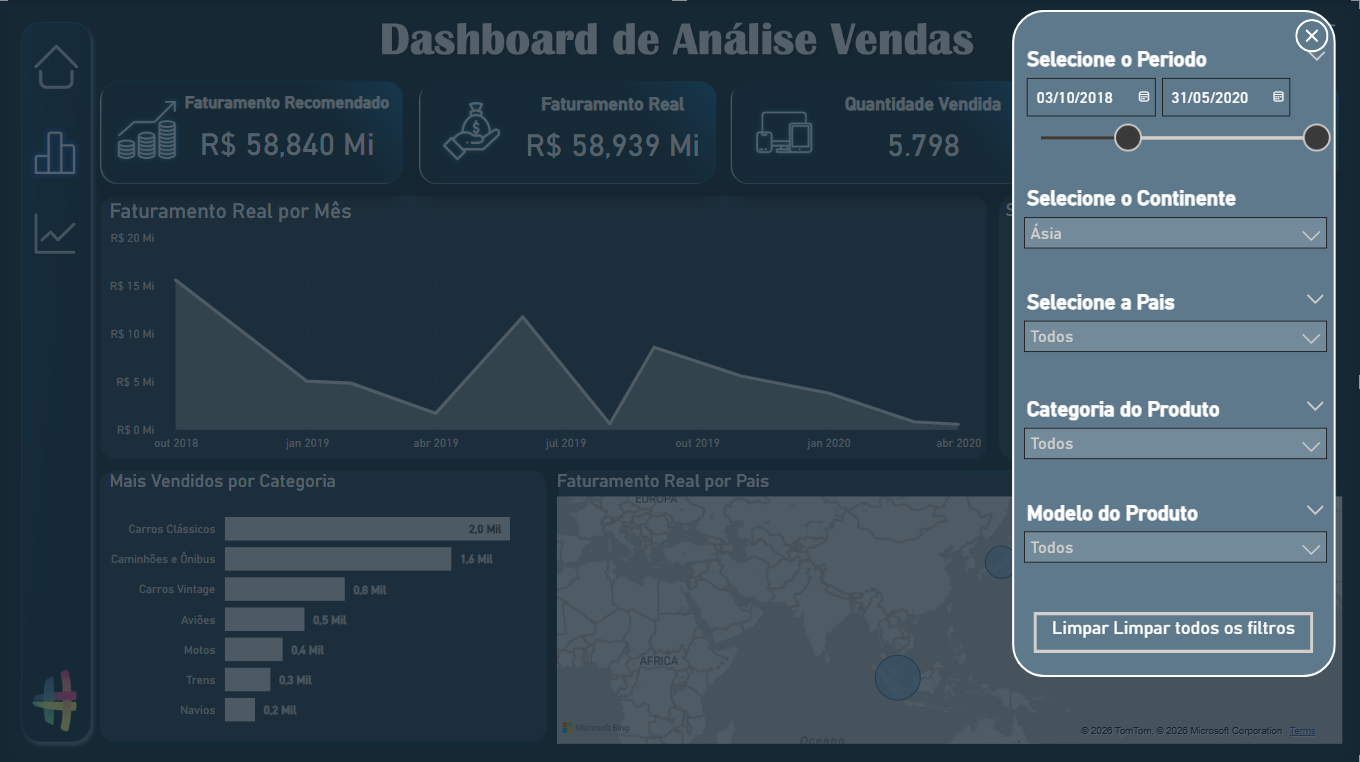

The page's visual inventory and layout, read from the dashboard file:
{"tool":"powerbi","page":{"name":"Inicial","canvas":[1280,720],"ordinal":1},"visuals":[{"type":"card","title":"Faturamento Recomendado","fields":{"Values":["Medidas.Faturamento Total Previsto"]},"box":[168.9,89.5,207,73.8],"z":0},{"type":"card","title":"Faturamento Real","fields":{"Values":["Medidas.Faturamento Total Real"]},"box":[474.6,89.5,203.9,73.6],"z":1000},{"type":"card","title":"Quantidade Vendida","fields":{"Values":["Medidas.Qtde Vendida"]},"box":[770.8,89.5,194.7,73.8],"z":2000},{"type":"card","title":"Desvio de Faturamento","fields":{"Values":["Medidas.Desvio de Preço"]},"box":[1056.3,89.2,199.7,73.6],"z":3000},{"type":"stackedAreaChart","title":"Faturamento Real por Mês","fields":{"Category":["dCalendario.Inicio do Mês"],"Y":["Medidas.Faturamento Total Real"]},"box":[100.4,188.5,827.7,243.2],"z":4000},{"type":"image","title":"Botão de Filtro","box":[1219.2,21.2,39,31.2],"z":5000},{"type":"clusteredBarChart","title":"Mais Vendidos por Categoria","fields":{"Y":["Medidas.Qtde Vendida"],"Category":["dProduto.Categoria"]},"box":[100.4,442.8,413.8,252.1],"z":6000},{"type":"map","title":"Faturamento Real por Pais","fields":{"Category":["dLocalidade.Pais"],"Size":["Medidas.Faturamento Total Real"]},"box":[519.8,442.8,746.2,261],"z":7000},{"type":"actionButton","title":"Botão Capa","box":[22.3,37.2,68.3,60.8],"z":8000},{"type":"donutChart","title":"Status dos Produtos","fields":{"Y":["Medidas.Qtde Vendida"],"Series":["fVendas.Porte da Venda1"]},"box":[940.3,188.5,317.9,243.2],"z":9000},{"type":"actionButton","box":[22.6,191.3,67.8,57.1],"z":11000},{"type":"actionButton","title":"Botão Capa","box":[21.1,187.5,68.3,60.8],"z":12000}]}

Visuals, with their boxes on the page's 1280x720 design canvas (x1, y1, x2, y2). These are canvas units, not pixel positions in the 1360x762 screenshot, which may show the page scaled, cropped or inside an application window:
"Faturamento Recomendado" card: <region>169, 90, 376, 163</region>
"Faturamento Real" card: <region>475, 90, 678, 163</region>
"Quantidade Vendida" card: <region>771, 90, 966, 163</region>
"Desvio de Faturamento" card: <region>1056, 89, 1256, 163</region>
"Faturamento Real por Mês" stackedAreaChart: <region>100, 188, 928, 432</region>
"Botão de Filtro" image: <region>1219, 21, 1258, 52</region>
"Mais Vendidos por Categoria" clusteredBarChart: <region>100, 443, 514, 695</region>
"Faturamento Real por Pais" map: <region>520, 443, 1266, 704</region>
"Botão Capa" actionButton: <region>22, 37, 91, 98</region>
"Status dos Produtos" donutChart: <region>940, 188, 1258, 432</region>
actionButton: <region>23, 191, 90, 248</region>
"Botão Capa" actionButton: <region>21, 188, 89, 248</region>
